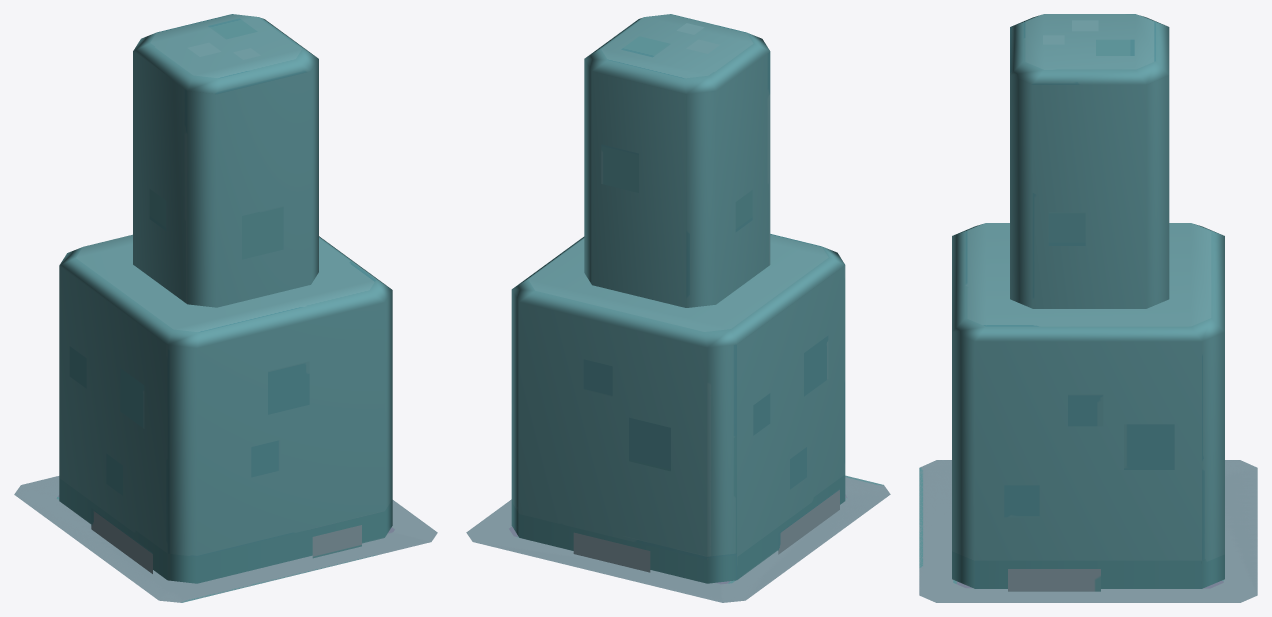
Rendered from B_mountain2_rock00.fbx.
The picture shows the model from 3 angles, left to right: view 1: azimuth 30°, elevation 25°; view 2: azimuth 150°, elevation 25°; view 3: azimuth 270°, elevation 25°; orthographic projection. The views are drawn at different scales.
Visible parts, largest first — view 1: model 1, model; view 2: model 1, model; view 3: model 1, model.
Part boxes in pixels (left/top/right/bottom): model 1: left=15, top=14, right=437, bottom=602; model: left=14, top=476, right=437, bottom=602; model 1: left=467, top=14, right=889, bottom=602; model: left=466, top=475, right=890, bottom=602; model 1: left=919, top=14, right=1257, bottom=602; model: left=919, top=460, right=1257, bottom=602.
Size of the model in its own units: 1.86 by 3.01 by 1.86.
1 material, 1 textured.
